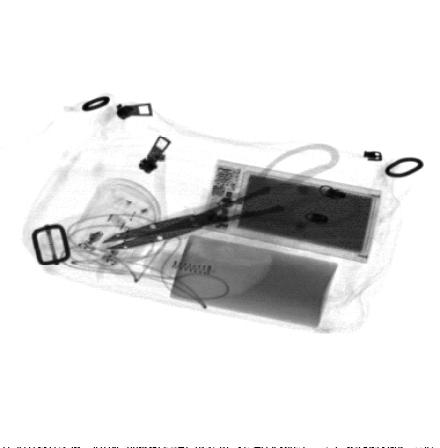Powerbank: (196, 158, 382, 264)
Scissors: (99, 139, 361, 251)
